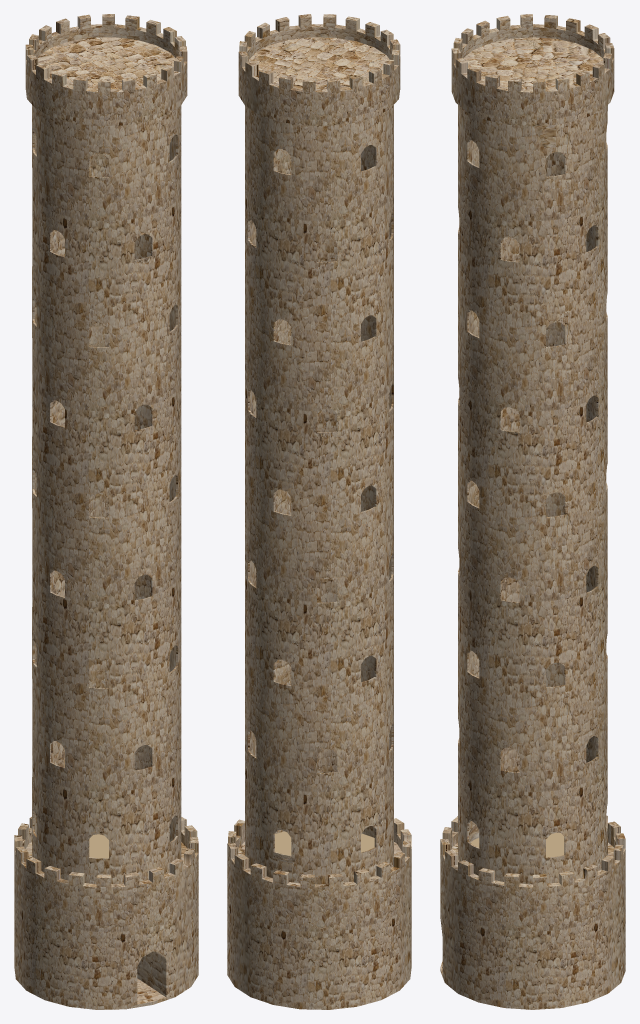
The model's file is tousotogawa.fbx.
The picture shows the model from 3 angles, left to right: view 1: azimuth 30°, elevation 25°; view 2: azimuth 150°, elevation 25°; view 3: azimuth 270°, elevation 25°; orthographic projection.
Visible parts, largest first — view 1: polySurface4; view 2: polySurface4; view 3: polySurface4.
Part boxes in pixels (x1=…): polySurface4: x1=14, y1=14, x2=198, y2=1009; polySurface4: x1=227, y1=14, x2=411, y2=1009; polySurface4: x1=440, y1=14, x2=625, y2=1009.
Bounding box in the file's own units: 24 × 132 × 24.
